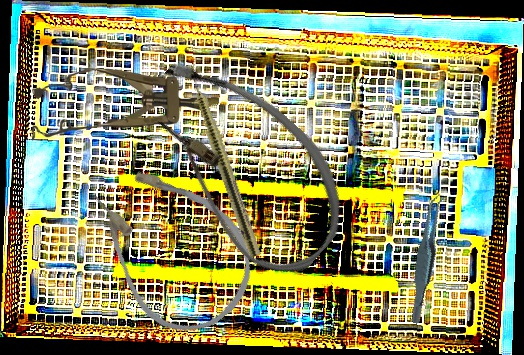Cannula: (108, 37, 374, 293), (66, 136, 276, 354)
Handpiece: (181, 57, 264, 259)
Speculum: (30, 65, 220, 141)
Tissue Forceps: (383, 191, 470, 325)
